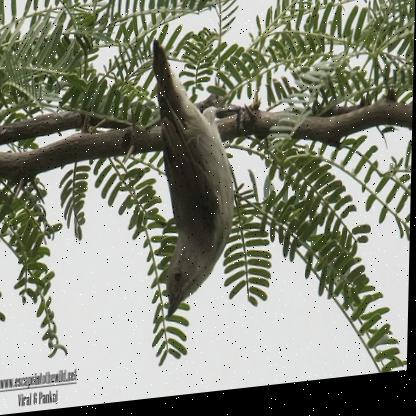Burung: (143, 29, 245, 318)
